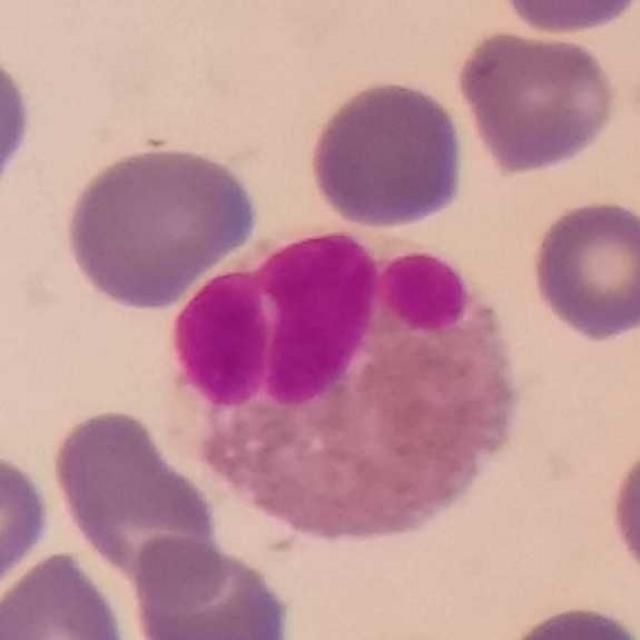eosino: (171, 217, 524, 543)
